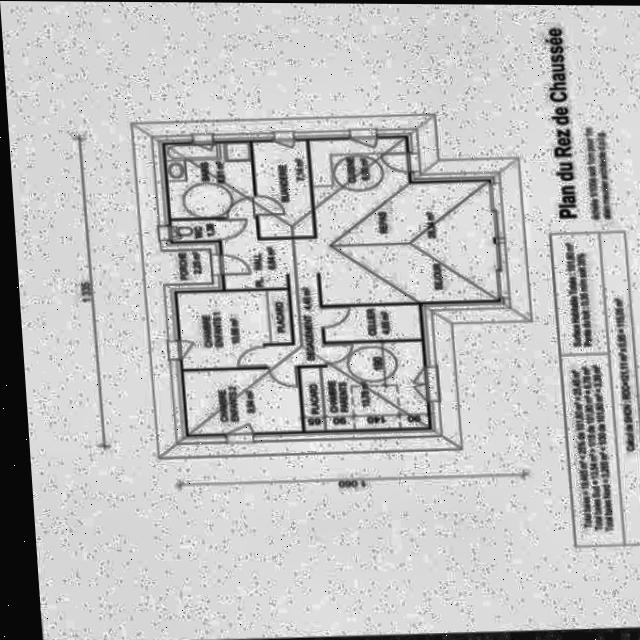room: (308, 138, 498, 307), (298, 343, 428, 433), (176, 291, 292, 370), (258, 238, 324, 370), (182, 367, 302, 435), (164, 143, 255, 221), (249, 139, 314, 243), (218, 218, 287, 291), (320, 306, 421, 344), (170, 220, 220, 242)
